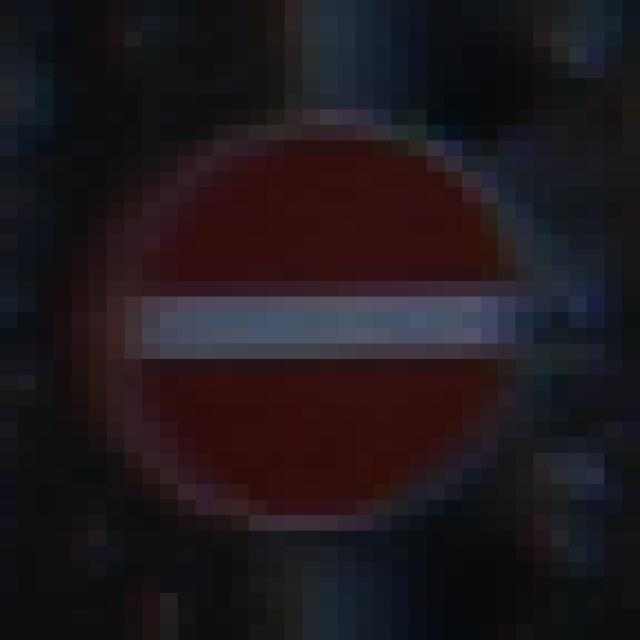No Entry: (90, 79, 552, 563)
